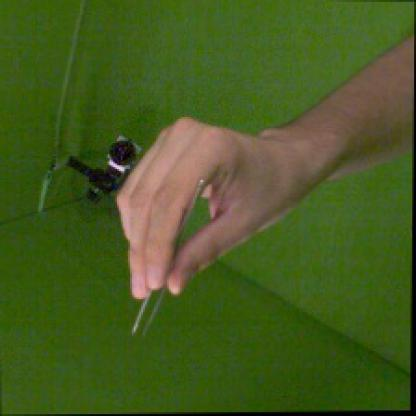Hand: (114, 115, 304, 299)
